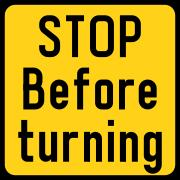Stop: (38, 11, 149, 64)
